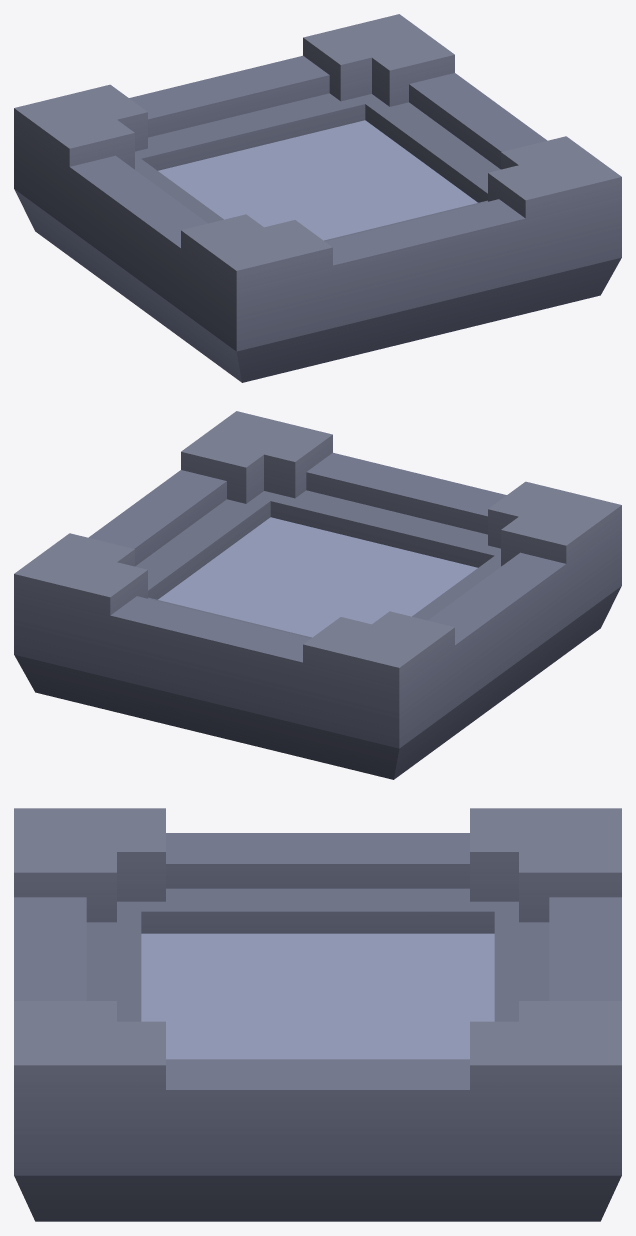
Rendered from tower-square-top.fbx.
The picture shows the model from 3 angles, top to bottom: view 1: azimuth 30°, elevation 25°; view 2: azimuth 150°, elevation 25°; view 3: azimuth 270°, elevation 25°; orthographic projection. The views are drawn at different scales.
Visible parts, largest first — view 1: tower-square-top; view 2: tower-square-top; view 3: tower-square-top.
Part boxes in pixels (x1,y1,x2,y2): tower-square-top: (14,14,621,382); tower-square-top: (14,411,621,779); tower-square-top: (14,808,621,1221).
Bounding box in the file's own units: 1 × 1 × 0.3.
